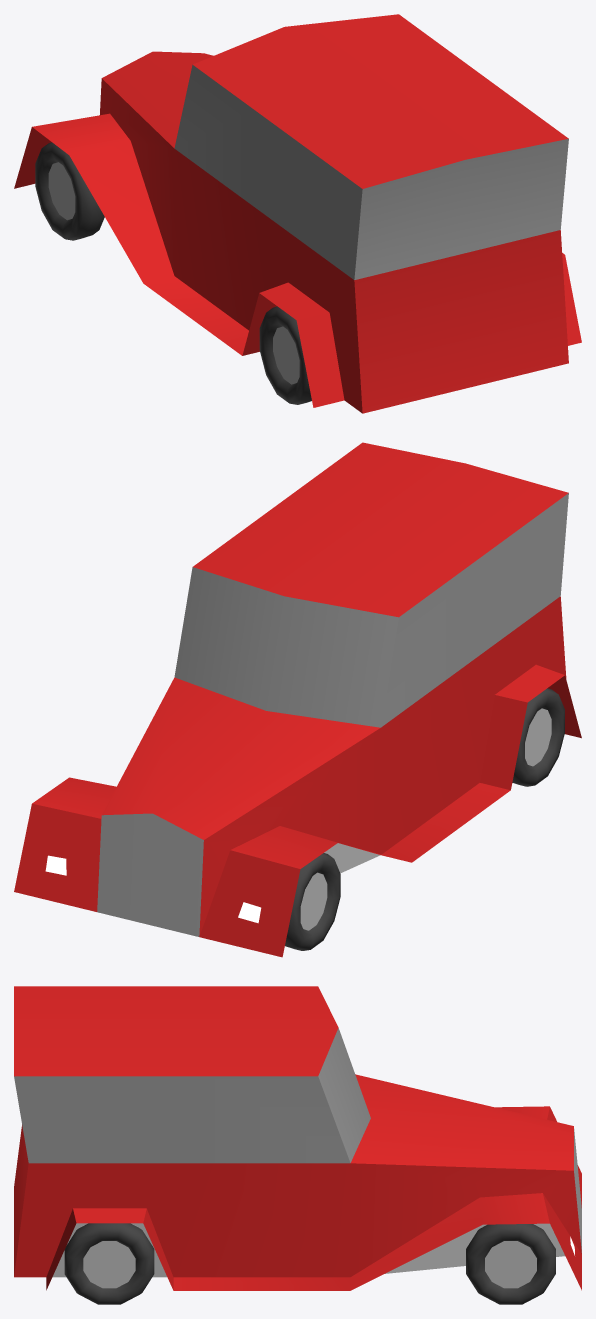
The model's file is simple_car.fbx.
The picture shows the model from 3 angles, top to bottom: view 1: azimuth 30°, elevation 25°; view 2: azimuth 150°, elevation 25°; view 3: azimuth 270°, elevation 25°; orthographic projection. The views are drawn at different scales.
Parts seen in each view (by area): view 1: SimpleCarMesh, WheelFrontLeftMesh, WheelBackLeftMesh; view 2: SimpleCarMesh, WheelFrontLeftMesh, WheelBackLeftMesh; view 3: SimpleCarMesh, WheelBackRightMesh, WheelFrontRightMesh.
Part boxes in pixels (x1,y1,x2,y2): SimpleCarMesh: (14,14,581,413); WheelFrontLeftMesh: (35,142,104,240); WheelBackLeftMesh: (259,306,311,404); SimpleCarMesh: (14,442,581,957); WheelFrontLeftMesh: (285,853,340,950); WheelBackLeftMesh: (512,688,564,786); SimpleCarMesh: (14,986,581,1290); WheelBackRightMesh: (64,1223,154,1304); WheelFrontRightMesh: (466,1224,555,1304).
Bounding box in the file's own units: 1.83 × 3.75 × 1.63.
